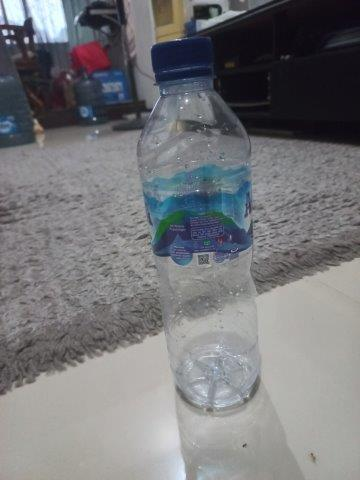botolplastik: (135, 36, 262, 409)
